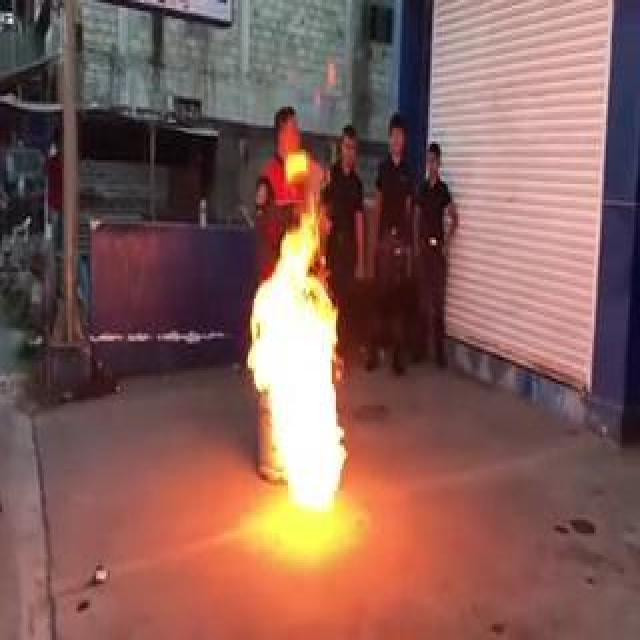Fire: (245, 199, 347, 529)
